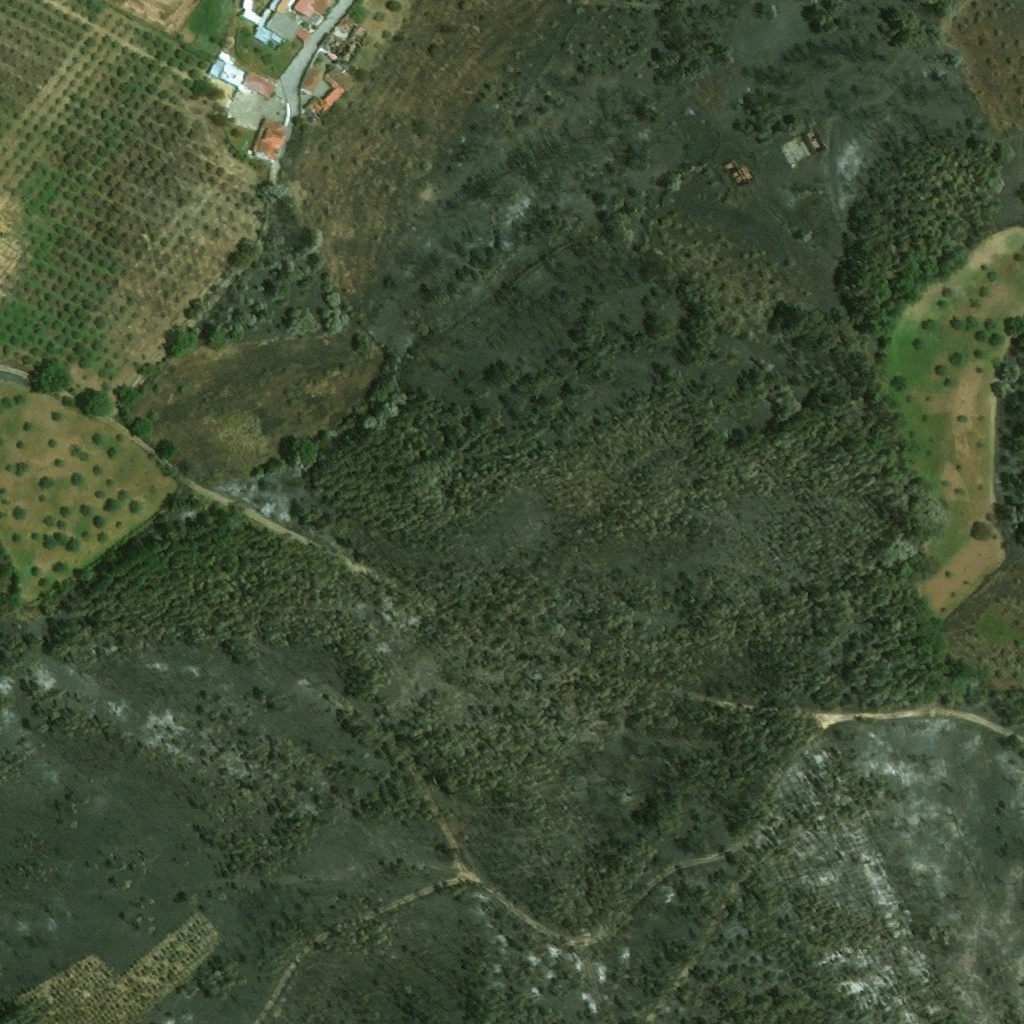0 no-damage: (242, 0, 310, 46), (209, 59, 278, 100), (306, 68, 353, 120), (251, 116, 290, 163), (291, 0, 334, 23), (300, 66, 323, 95)
3 destroyed: (316, 23, 371, 65), (732, 165, 757, 188), (805, 129, 827, 153), (337, 15, 355, 33), (724, 160, 738, 173)
